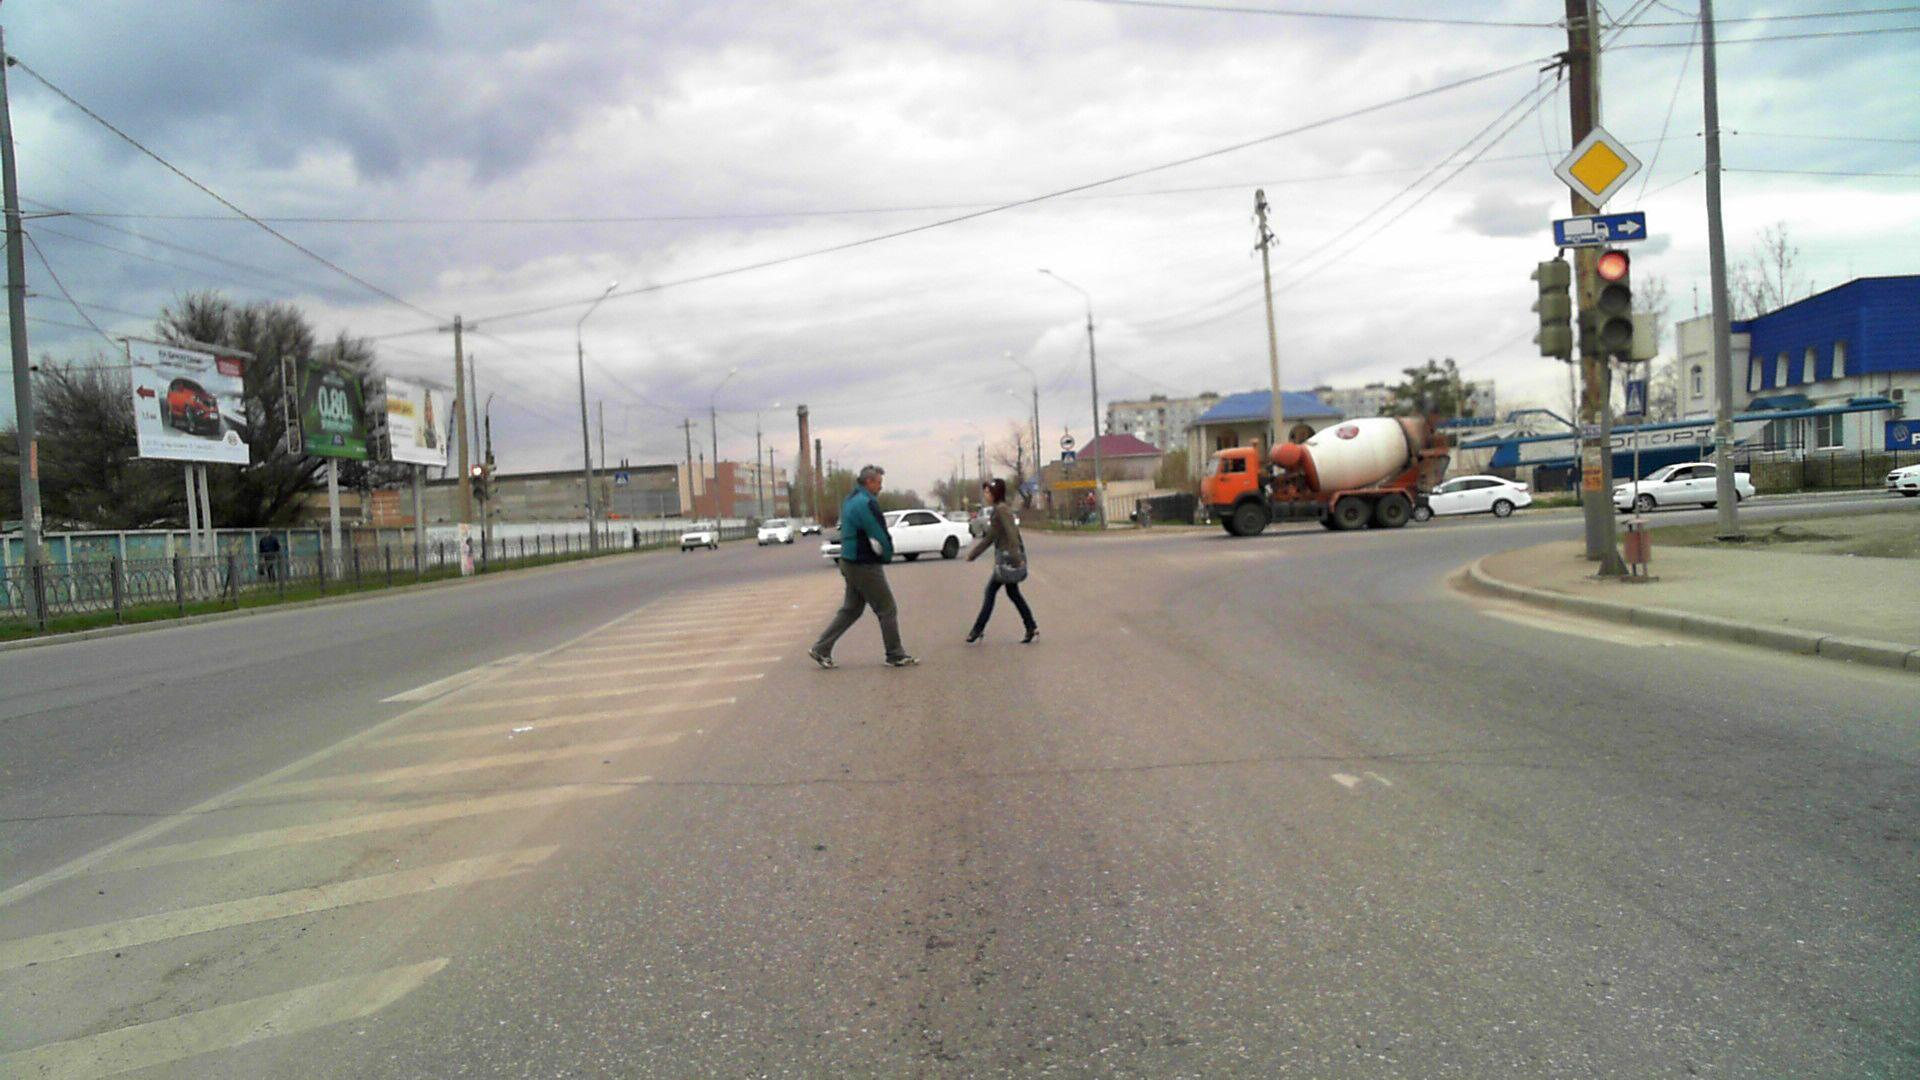2_1: (1553, 123, 1642, 208)
3_4: (1060, 434, 1076, 450)
5_19_1: (1623, 382, 1647, 414), (1060, 451, 1076, 465)
5_19_2: (615, 472, 628, 487)
6_15_2: (1553, 214, 1647, 247)
